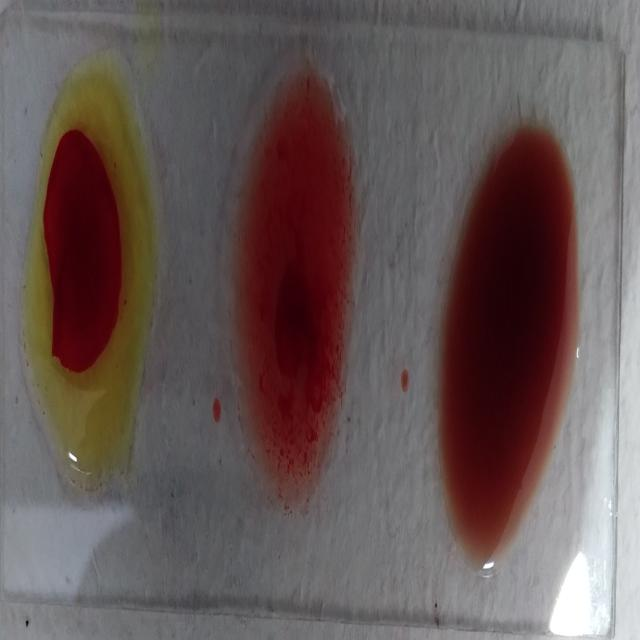B: (20, 58, 153, 500)
D: (231, 44, 352, 518)
